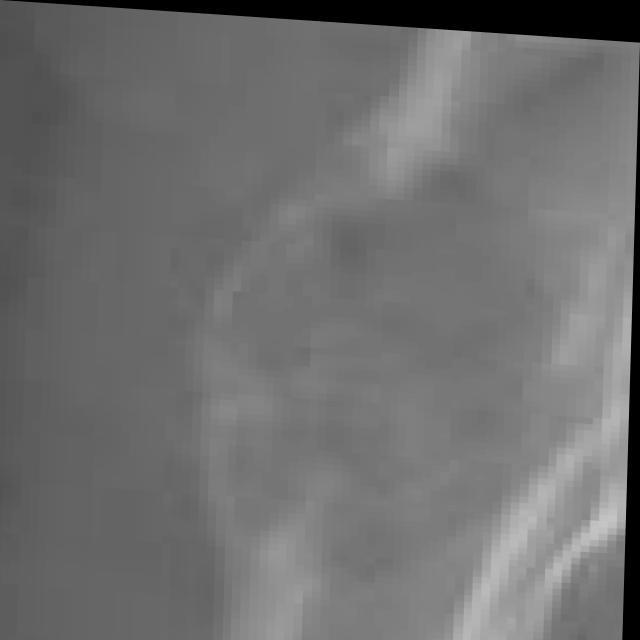fracture: (0, 5, 639, 640)
